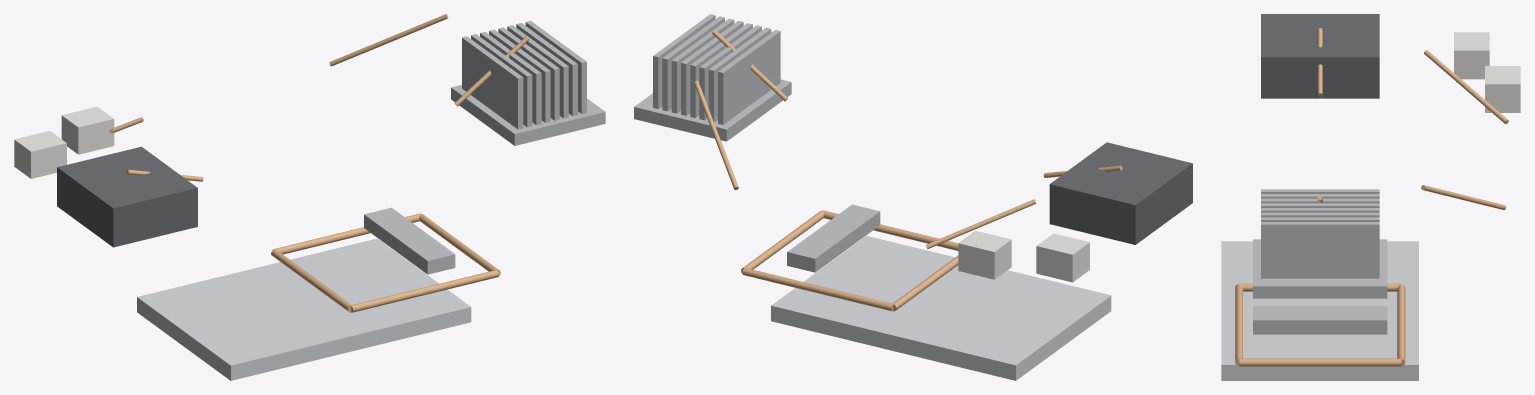
Rendered from exploded.glb.
The picture shows the model from 3 angles, left to right: view 1: azimuth 30°, elevation 25°; view 2: azimuth 150°, elevation 25°; view 3: azimuth 270°, elevation 25°; orthographic projection. The views are drawn at different scales.
Parts seen in each view (by area): view 1: assembly_base, heat_sink, heat_source, coolant_loop, cold_plate, module_02, module_01, link_coolant_loop__heat_sink; view 2: assembly_base, heat_sink, heat_source, coolant_loop, cold_plate, module_01, module_02, link_coolant_loop__heat_source, link_coolant_loop__heat_sink; view 3: heat_sink, assembly_base, heat_source, cold_plate, coolant_loop, module_01, module_02, link_coolant_loop__heat_source, link_coolant_loop__heat_sink, link_heat_source__cold_plate.
Part boxes in pixels (<box>): assembly_base: <box>137,238,471,380</box>; heat_sink: <box>451,20,605,145</box>; heat_source: <box>57,146,197,247</box>; coolant_loop: <box>271,213,500,312</box>; cold_plate: <box>364,207,455,274</box>; module_02: <box>61,106,114,154</box>; module_01: <box>14,131,66,178</box>; link_coolant_loop__heat_sink: <box>329,14,448,66</box>; assembly_base: <box>771,235,1111,380</box>; heat_sink: <box>634,14,791,141</box>; heat_source: <box>1049,142,1192,244</box>; coolant_loop: <box>741,210,958,311</box>; cold_plate: <box>787,204,880,272</box>; module_01: <box>1036,233,1089,282</box>; module_02: <box>958,230,1011,279</box>; link_coolant_loop__heat_source: <box>926,199,1036,249</box>; link_coolant_loop__heat_sink: <box>694,80,738,189</box>; heat_sink: <box>1253,189,1387,298</box>; assembly_base: <box>1221,241,1418,380</box>; heat_source: <box>1261,14,1379,98</box>; cold_plate: <box>1253,306,1387,334</box>; coolant_loop: <box>1235,283,1405,366</box>; module_01: <box>1454,32,1489,79</box>; module_02: <box>1485,66,1520,112</box>; link_coolant_loop__heat_source: <box>1424,50,1508,124</box>; link_coolant_loop__heat_sink: <box>1421,185,1506,209</box>; link_heat_source__cold_plate: <box>1317,28,1322,96</box>.
Size of the model in its own units: 10.02 by 4.44 by 5.05.
